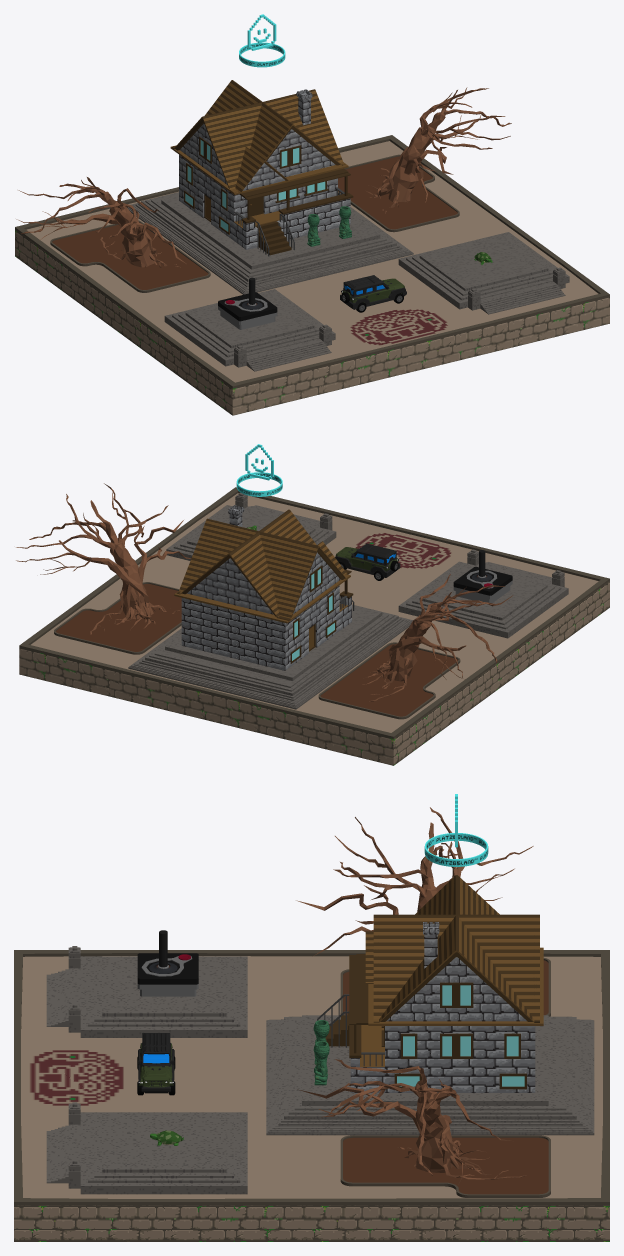
The picture shows the model from 3 angles, top to bottom: view 1: azimuth 30°, elevation 25°; view 2: azimuth 150°, elevation 25°; view 3: azimuth 270°, elevation 25°; orthographic projection. The views are drawn at different scales.
Parts seen in each view (by area): view 1: Cube.011, Cube.586, OBJRANDOM_JOYSTICK, VEHICLES_JEEP, TYPE_PREMIUM; view 2: Cube.011, Cube.586, OBJRANDOM_JOYSTICK, VEHICLES_JEEP, TYPE_PREMIUM; view 3: Cube.011, Cube.586, OBJRANDOM_JOYSTICK, VEHICLES_JEEP, TYPE_PREMIUM.
Boxes of the visible parts, box(x1,y1,x2,y2) form: Cube.011: box(15, 87, 609, 415); Cube.586: box(170, 80, 353, 256); OBJRANDOM_JOYSTICK: box(218, 277, 277, 329); VEHICLES_JEEP: box(340, 275, 406, 312); TYPE_PREMIUM: box(239, 14, 285, 67); Cube.011: box(16, 483, 609, 765); Cube.586: box(174, 505, 354, 670); OBJRANDOM_JOYSTICK: box(453, 550, 512, 603); VEHICLES_JEEP: box(335, 543, 400, 580); TYPE_PREMIUM: box(236, 444, 282, 496); Cube.011: box(14, 807, 609, 1241); Cube.586: box(317, 875, 543, 1092); OBJRANDOM_JOYSTICK: box(137, 930, 198, 996); VEHICLES_JEEP: box(137, 1033, 175, 1095); TYPE_PREMIUM: box(424, 794, 488, 866).
Bounding box in the file's own units: 5099 × 2619 × 4000.
Materials: 39 (7 with a texture image).
